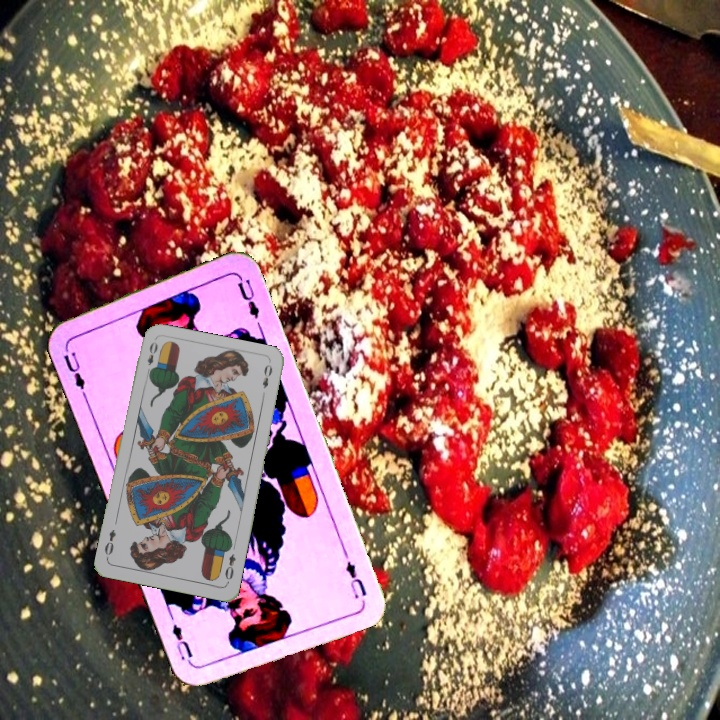EO: (142, 338, 160, 377), (221, 550, 238, 586)
EU: (338, 545, 369, 601), (59, 348, 88, 392)
